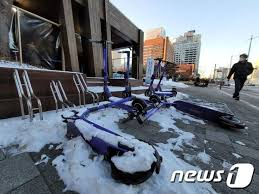fallin_kick: (67, 95, 162, 182), (139, 100, 245, 132)
kick_body: (154, 91, 170, 96)
kick_handler: (91, 39, 113, 47), (119, 50, 130, 55)
kick_neck: (102, 49, 109, 87), (124, 58, 131, 86)
kick_wheel: (132, 99, 145, 113), (122, 90, 129, 99), (144, 88, 152, 95), (172, 92, 176, 96)
